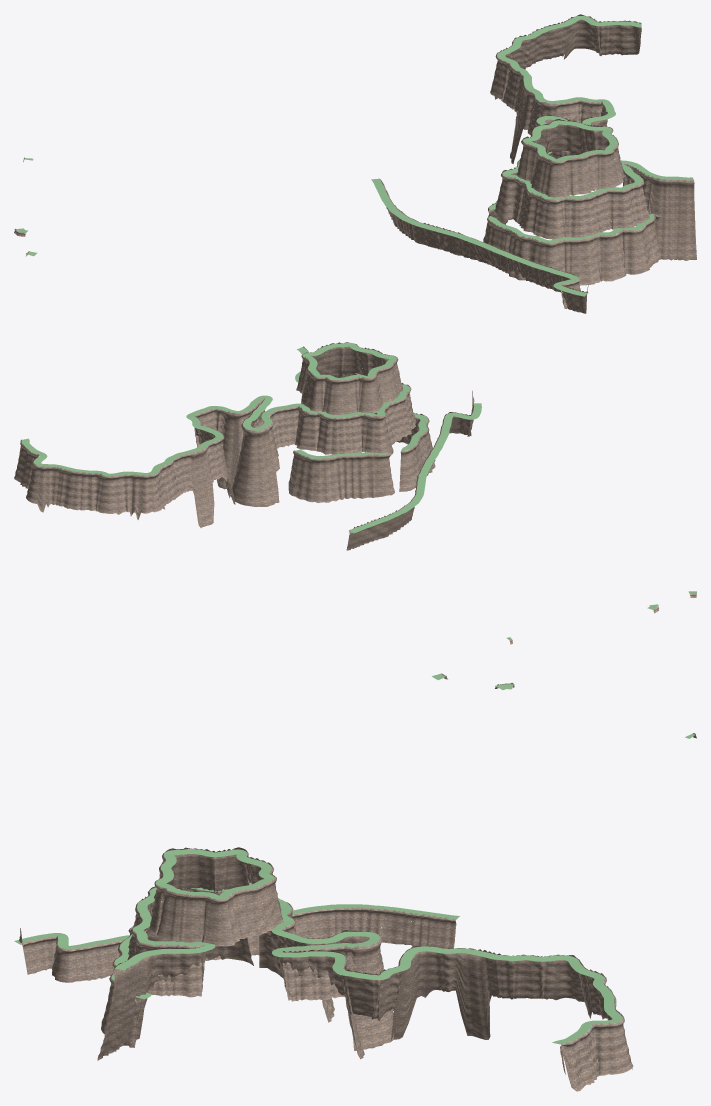
Rendered from CliffWall_plateau_west_n.glb.
3 renders of one model, top to bottom at view 1: azimuth 30°, elevation 25°; view 2: azimuth 150°, elevation 25°; view 3: azimuth 270°, elevation 25°, orthographic. The views are drawn at different scales.
Visible parts, largest first — view 1: CliffWall_plateau_west_n-rock1, CliffWall_plateau_west_n-rock2, CliffWall_plateau_west_n-rock0, CliffWall_plateau_west_n-rock7, CliffWall_plateau_west_n-lip1, CliffWall_plateau_west_n-lip7, CliffWall_plateau_west_n-lip0, CliffWall_plateau_west_n-lip2; view 2: CliffWall_plateau_west_n-rock1, CliffWall_plateau_west_n-rock0, CliffWall_plateau_west_n-rock3, CliffWall_plateau_west_n-lip1, CliffWall_plateau_west_n-rock7, CliffWall_plateau_west_n-rock2, CliffWall_plateau_west_n-lip7, CliffWall_plateau_west_n-lip0; view 3: CliffWall_plateau_west_n-rock1, CliffWall_plateau_west_n-rock0, CliffWall_plateau_west_n-rock7, CliffWall_plateau_west_n-lip1, CliffWall_plateau_west_n-lip0, CliffWall_plateau_west_n-rock2, CliffWall_plateau_west_n-lip7, CliffWall_plateau_west_n-rock3.
Boxes of the visible parts, <box> form: CliffWall_plateau_west_n-rock1: <box>490,14,696,260</box>; CliffWall_plateau_west_n-rock2: <box>484,214,661,285</box>; CliffWall_plateau_west_n-rock0: <box>516,119,625,197</box>; CliffWall_plateau_west_n-rock7: <box>380,179,588,313</box>; CliffWall_plateau_west_n-lip1: <box>497,15,693,199</box>; CliffWall_plateau_west_n-lip7: <box>371,178,587,296</box>; CliffWall_plateau_west_n-lip0: <box>523,120,617,161</box>; CliffWall_plateau_west_n-lip2: <box>488,213,654,243</box>; CliffWall_plateau_west_n-rock1: <box>14,346,416,527</box>; CliffWall_plateau_west_n-rock0: <box>296,342,402,414</box>; CliffWall_plateau_west_n-rock3: <box>288,450,394,502</box>; CliffWall_plateau_west_n-lip1: <box>21,347,410,476</box>; CliffWall_plateau_west_n-rock7: <box>346,390,474,550</box>; CliffWall_plateau_west_n-rock2: <box>335,412,435,491</box>; CliffWall_plateau_west_n-lip7: <box>349,403,481,533</box>; CliffWall_plateau_west_n-lip0: <box>303,342,396,380</box>; CliffWall_plateau_west_n-rock1: <box>97,886,633,1091</box>; CliffWall_plateau_west_n-rock0: <box>149,847,283,946</box>; CliffWall_plateau_west_n-rock7: <box>19,907,456,982</box>; CliffWall_plateau_west_n-lip1: <box>115,887,622,1044</box>; CliffWall_plateau_west_n-lip0: <box>156,849,274,899</box>; CliffWall_plateau_west_n-rock2: <box>101,925,253,1047</box>; CliffWall_plateau_west_n-lip7: <box>14,904,459,949</box>; CliffWall_plateau_west_n-rock3: <box>259,933,334,1022</box>.
Size of the model in its own units: 3410 by 546 by 2359.
4 materials, 1 textured.
